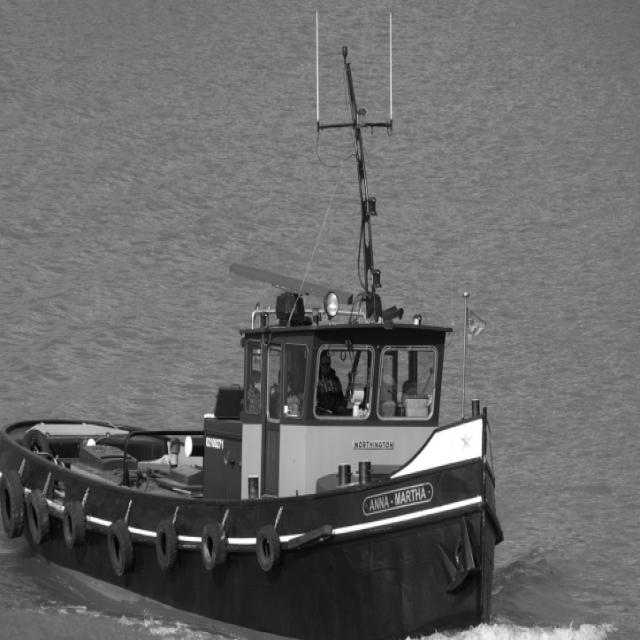tugboat: (1, 267, 508, 640)
